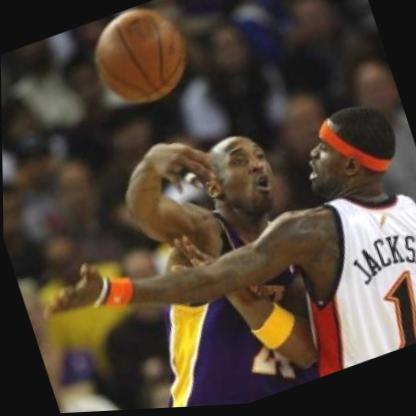basketball: (77, 0, 203, 124)
